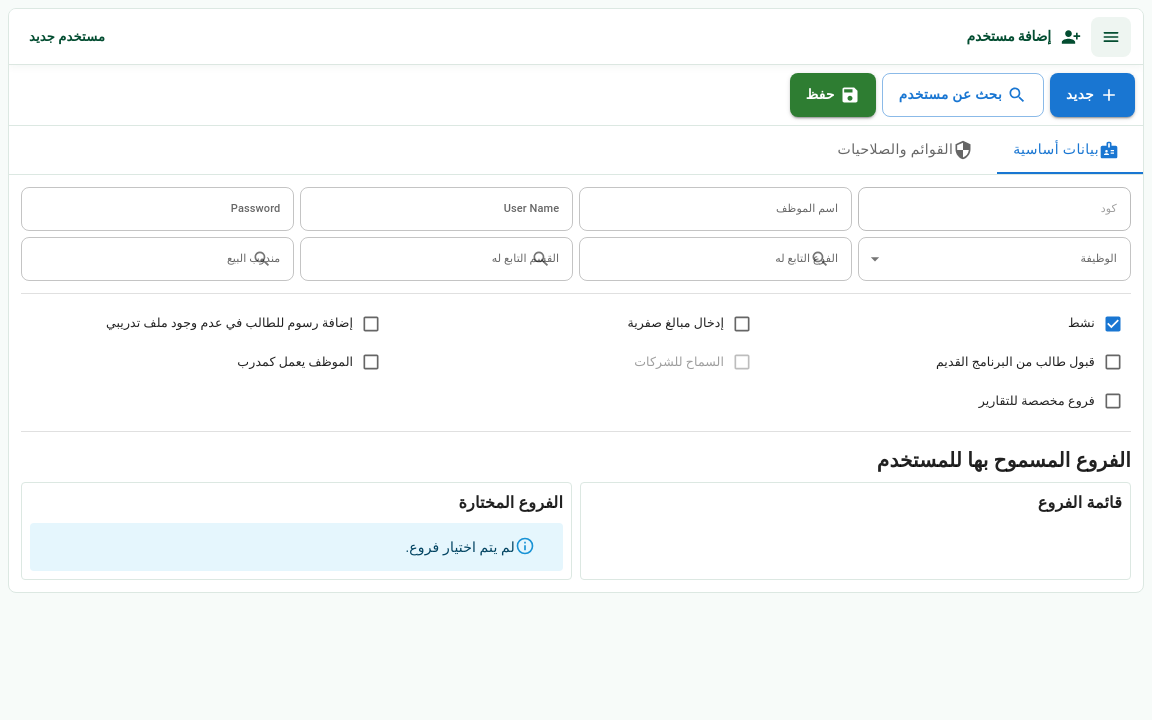
user search uses the identity established after the page module loaded
Click the button "بحث عن مستخدم" at (963, 95), box 882,73 -> 1044,117
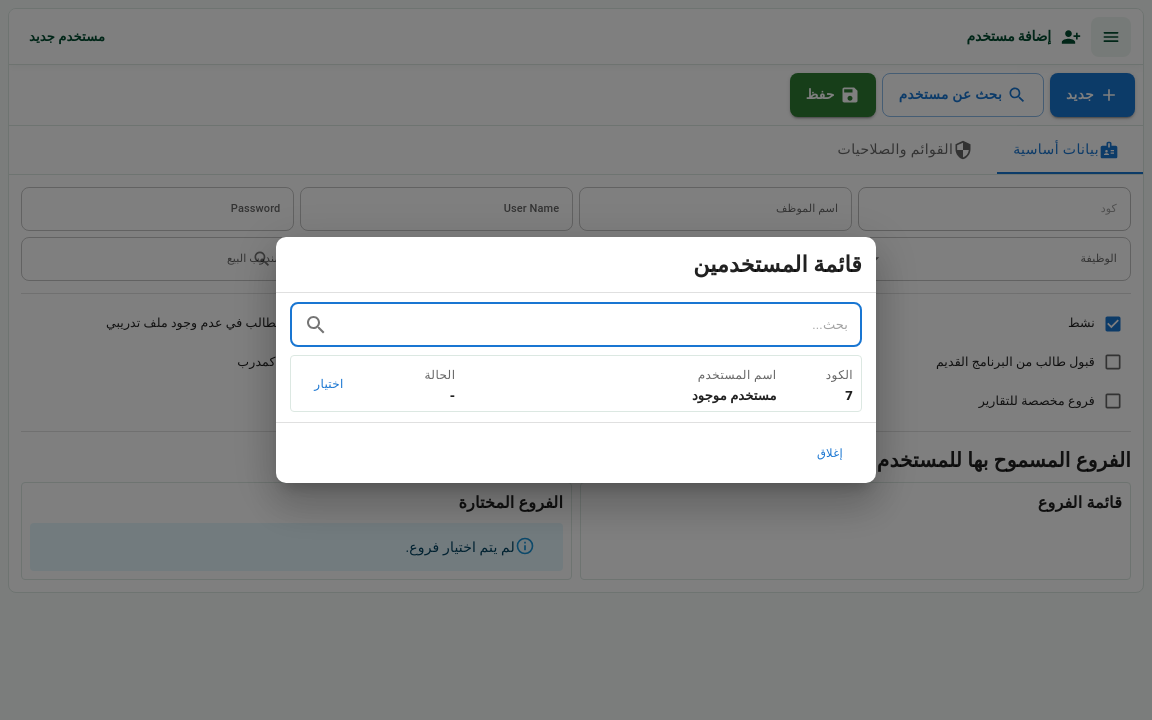
Expected: the text "مستخدم موجود" is shown, 692,388 -> 777,403
